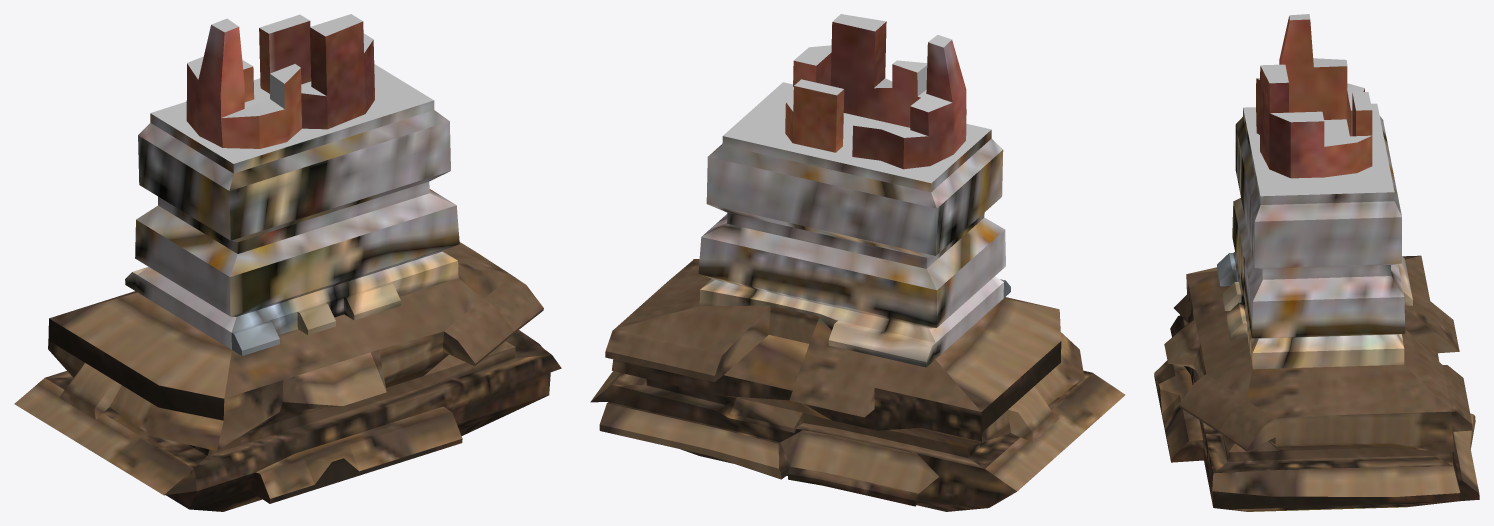
File: Barracks6.fbx
3 renders of one model, left to right at view 1: azimuth 30°, elevation 25°; view 2: azimuth 150°, elevation 25°; view 3: azimuth 270°, elevation 25°, orthographic. The views are drawn at different scales.
Visible parts, largest first — view 1: Cube_010.005; view 2: Cube_010.005; view 3: Cube_010.005.
Part boxes in pixels (x1=…): Cube_010.005: x1=14, y1=14, x2=561, y2=511; Cube_010.005: x1=590, y1=14, x2=1125, y2=511; Cube_010.005: x1=1154, y1=14, x2=1479, y2=511.
Size of the model in its own units: 37.94 by 36.64 by 26.35.
